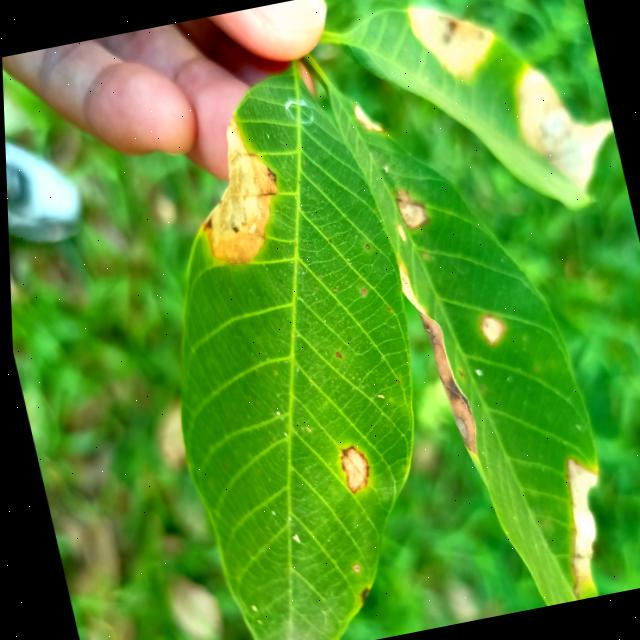Colletotrichum: (348, 564, 356, 572), (363, 243, 368, 249)
Leaf-Blight: (181, 111, 291, 268), (395, 258, 478, 458), (508, 56, 624, 196), (545, 455, 616, 580), (407, 0, 502, 84), (337, 446, 367, 488), (395, 190, 426, 228), (352, 100, 380, 134), (476, 312, 504, 345), (395, 223, 405, 242)
